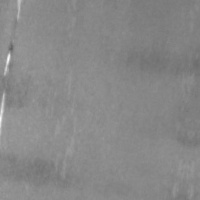scratches: (0, 39, 19, 178), (8, 0, 29, 25)
